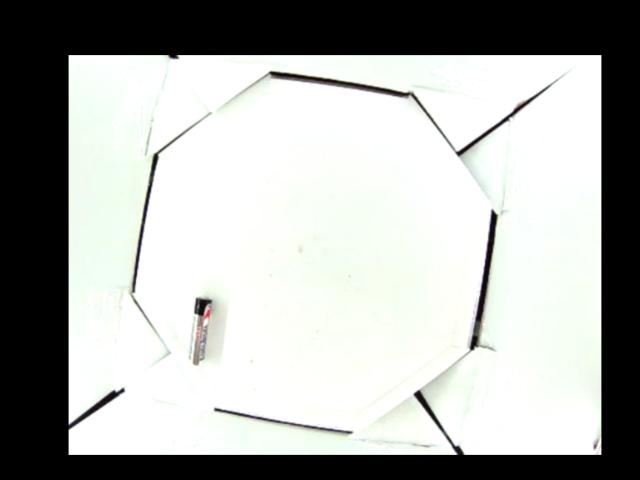Battery: (190, 296, 213, 368)
